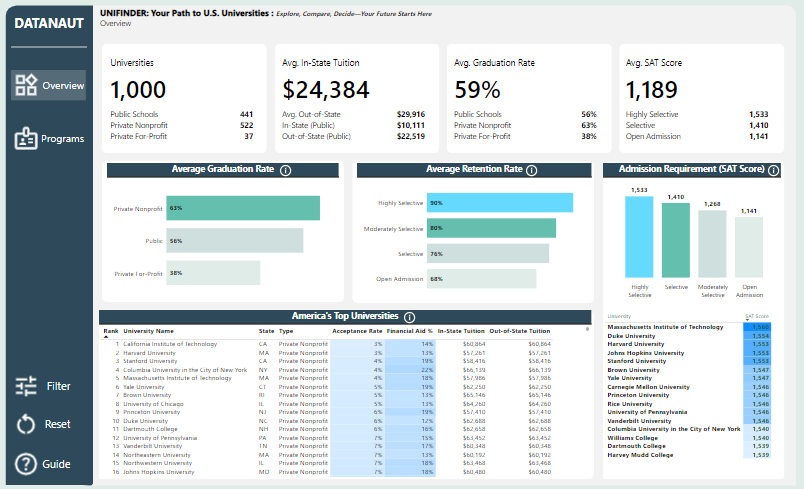

The page's visual inventory and layout, read from the dashboard file:
{"tool":"powerbi","page":{"name":"University overview","canvas":[2000,1232],"ordinal":0},"visuals":[{"type":"textbox","box":[247.5,27.5,1687.5,90],"z":0},{"type":"actionButton","box":[32.5,187.5,185,75],"z":1000},{"type":"actionButton","box":[32.5,320,185,75],"z":2000},{"type":"shape","box":[32.2,108.9,188,44.5],"z":3000},{"type":"actionButton","box":[32.6,1125.6,150.9,74.2],"z":4000},{"type":"actionButton","box":[32.6,1026.7,150.9,74.2],"z":5000},{"type":"actionButton","title":"Filter Button","box":[32.6,932.7,150.9,74.2],"z":6000},{"type":"textbox","box":[32.2,44.5,188,74.2],"z":7000},{"type":"cardVisual","fields":{"Data":["Fact_University.Universities","Fact_University.Avg. In-State Tuition","Fact_University.Avg. Graduation Rate","Fact_University.Avg. SAT"]},"box":[249.3,131.2,1687.7,270.3],"z":8000},{"type":"barChart","title":"Average Graduation Rate","fields":{"Y":["Fact_University.Avg. Graduation Rate"],"Category":["Dim_University.SCHOOL_TYPE"]},"box":[270,417.5,572.5,342.5],"z":9000},{"type":"barChart","title":"Average Retention Rate","fields":{"Category":["Fact_University.Admission Category"],"Y":["Avg(Fact_University.RETENTION_RATE)"]},"box":[887.5,417.5,580,342.5],"z":10000},{"type":"tableEx","title":"America''s Top Universities","fields":{"Values":["Fact_University.UNIVERSITY_ID","Dim_University.NAME1","Dim_University.STATE1","Dim_University.SCHOOL_TYPE1","Fact_University.Admission Rate","Fact_University.Avg. Financial Aid %","Fact_University.In State Display","Fact_University.Out of State Display","Dim_University.SCHOOL_URL"]},"box":[250,782.5,1217.5,417.5],"z":11000},{"type":"columnChart","title":"Admission Requirement  (SAT Score)","fields":{"Y":["Fact_University.Avg. SAT"],"Category":["Fact_University.Admission Category"]},"box":[1497.5,417.5,440,342.5],"z":12000},{"type":"tableEx","fields":{"Values":["Dim_University.NAME","Fact_University.Avg. SAT"]},"box":[1497.5,782.5,440,417.5],"z":13000},{"type":"actionButton","box":[692.5,417.5,45,37.5],"z":16000},{"type":"actionButton","box":[1302.5,417.5,45,37.5],"z":17000},{"type":"actionButton","box":[1900,417.5,45,37.5],"z":18000},{"type":"actionButton","box":[1000,782.5,45,37.5],"z":19000}]}

Visuals, with their boxes on the page's 2000x1232 design canvas (x1, y1, x2, y2). These are canvas units, not pixel positions in the 804x489 screenshot, which may show the page scaled, cropped or inside an application window:
textbox: {"x1": 248, "y1": 28, "x2": 1935, "y2": 118}
actionButton: {"x1": 32, "y1": 188, "x2": 218, "y2": 262}
actionButton: {"x1": 32, "y1": 320, "x2": 218, "y2": 395}
shape: {"x1": 32, "y1": 109, "x2": 220, "y2": 153}
actionButton: {"x1": 33, "y1": 1126, "x2": 184, "y2": 1200}
actionButton: {"x1": 33, "y1": 1027, "x2": 184, "y2": 1101}
"Filter Button" actionButton: {"x1": 33, "y1": 933, "x2": 184, "y2": 1007}
textbox: {"x1": 32, "y1": 44, "x2": 220, "y2": 119}
cardVisual - Fact_University.Universities x Fact_University.Avg. In-State Tuition: {"x1": 249, "y1": 131, "x2": 1937, "y2": 402}
"Average Graduation Rate" barChart: {"x1": 270, "y1": 418, "x2": 842, "y2": 760}
"Average Retention Rate" barChart: {"x1": 888, "y1": 418, "x2": 1468, "y2": 760}
"America''s Top Universities" tableEx: {"x1": 250, "y1": 782, "x2": 1468, "y2": 1200}
"Admission Requirement  (SAT Score)" columnChart: {"x1": 1498, "y1": 418, "x2": 1938, "y2": 760}
tableEx - Dim_University.NAME x Fact_University.Avg. SAT: {"x1": 1498, "y1": 782, "x2": 1938, "y2": 1200}
actionButton: {"x1": 692, "y1": 418, "x2": 738, "y2": 455}
actionButton: {"x1": 1302, "y1": 418, "x2": 1348, "y2": 455}
actionButton: {"x1": 1900, "y1": 418, "x2": 1945, "y2": 455}
actionButton: {"x1": 1000, "y1": 782, "x2": 1045, "y2": 820}
